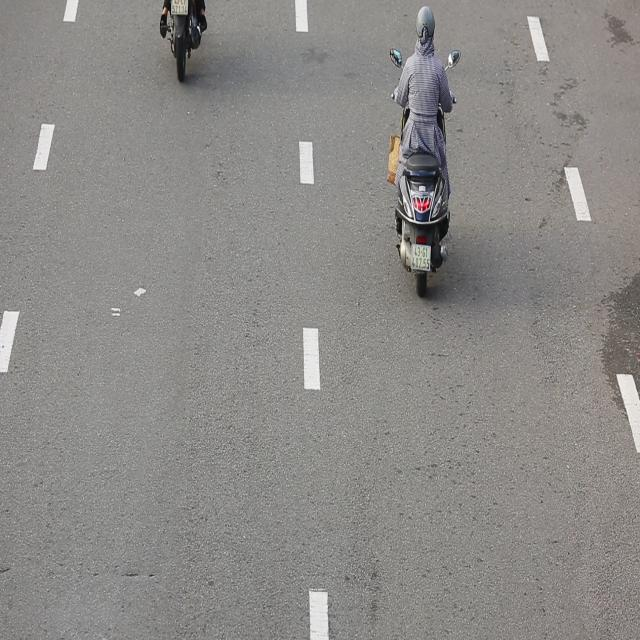motorbike: (382, 4, 465, 301)
